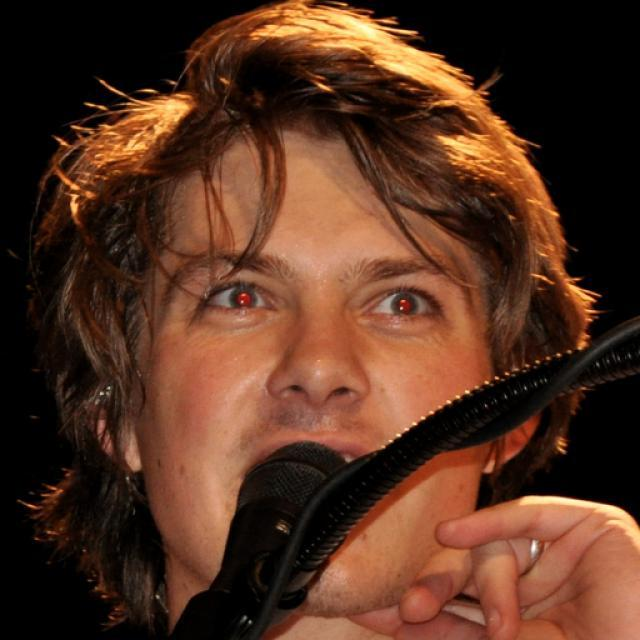surprise: (139, 116, 496, 618)
